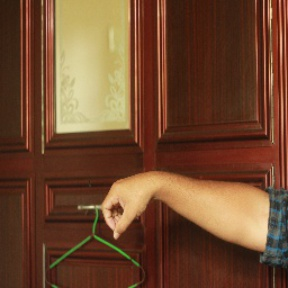O: (91, 173, 154, 242)
